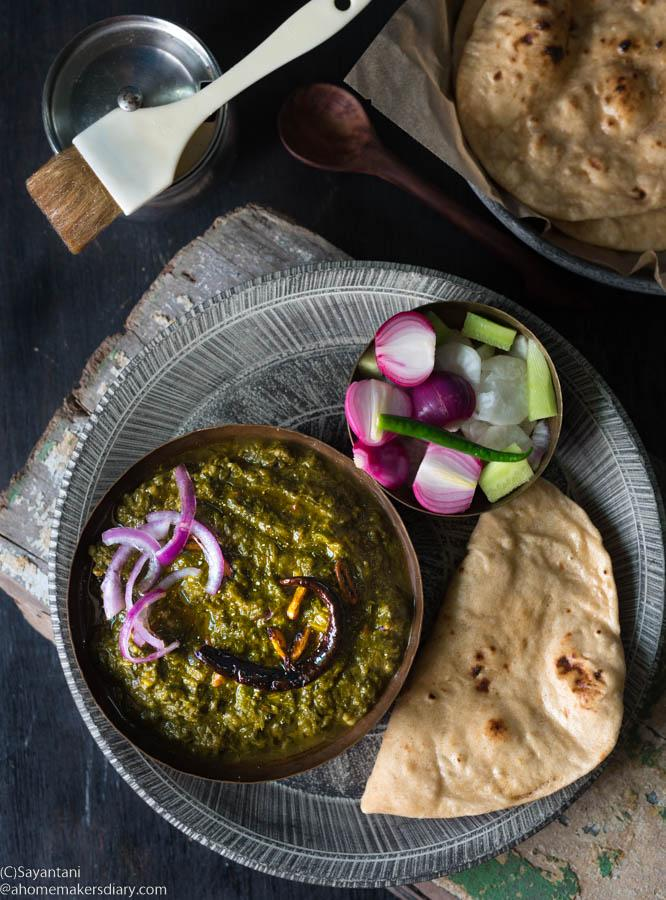saag: (92, 449, 393, 759)
